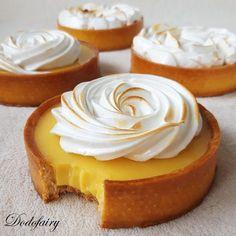Tart: (20, 74, 230, 228), (0, 29, 102, 109), (131, 20, 236, 97), (53, 0, 149, 57)
